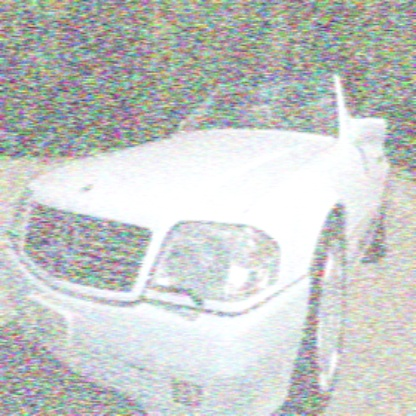Vehicle: (4, 68, 394, 414)
